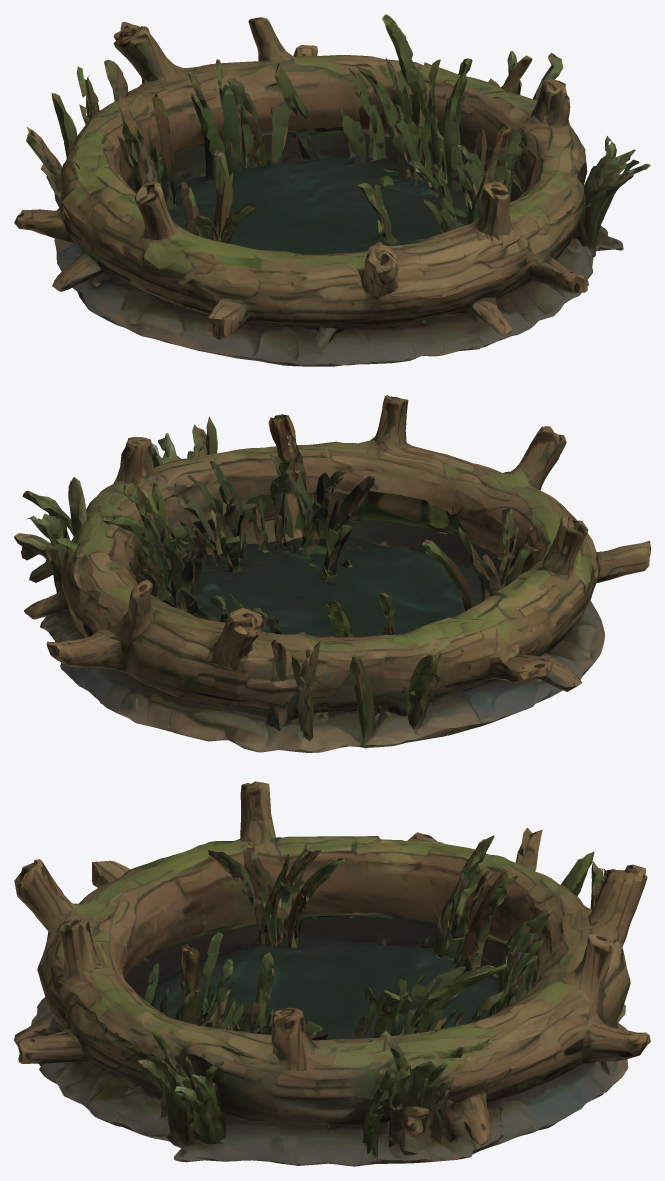
The model's file is leech_den.glb.
3 renders of one model, top to bottom at view 1: azimuth 30°, elevation 25°; view 2: azimuth 150°, elevation 25°; view 3: azimuth 270°, elevation 25°, orthographic. The views are drawn at different scales.
Parts seen in each view (by area): view 1: leech_den; view 2: leech_den; view 3: leech_den.
Part boxes in pixels (x1,y1,x2,y2): leech_den: [14, 14, 650, 366]; leech_den: [14, 395, 650, 752]; leech_den: [14, 781, 650, 1166].
Size of the model in its own units: 2.5 by 0.6579 by 2.4.
1 material, 1 textured.
